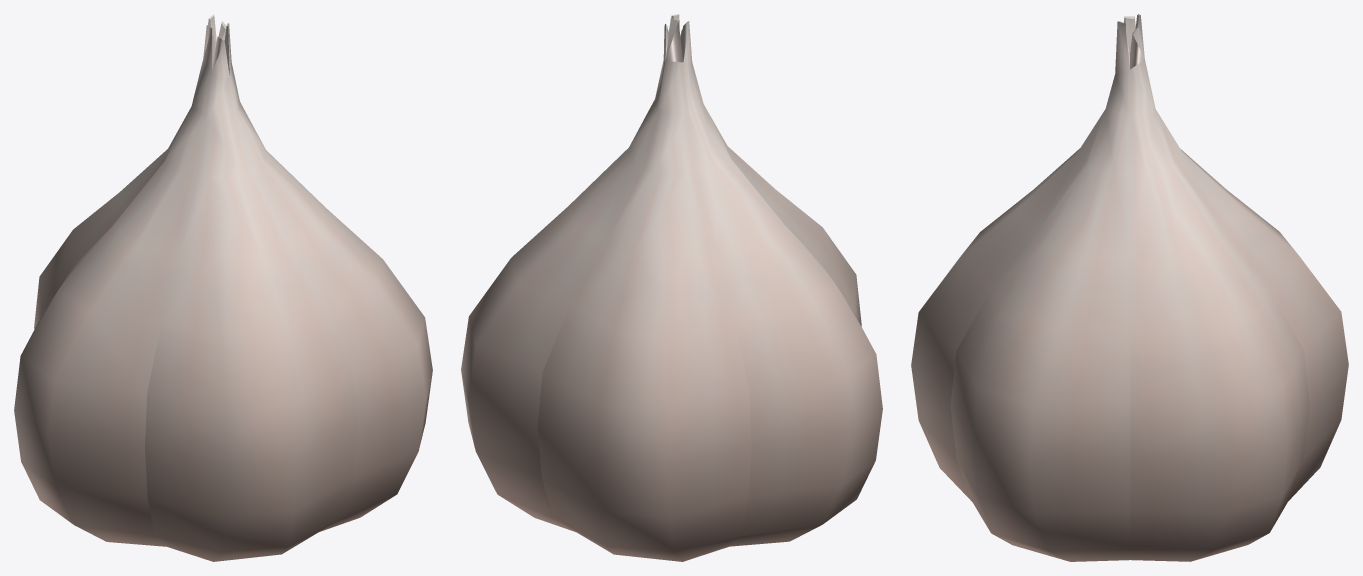
The model's file is Garlic.fbx.
The picture shows the model from 3 angles, left to right: view 1: azimuth 30°, elevation 25°; view 2: azimuth 150°, elevation 25°; view 3: azimuth 270°, elevation 25°; orthographic projection. The views are drawn at different scales.
Parts seen in each view (by area): view 1: GArlic; view 2: GArlic; view 3: GArlic.
Boxes of the visible parts, <box> form: GArlic: <box>14,14,432,561</box>; GArlic: <box>461,14,882,561</box>; GArlic: <box>911,14,1348,561</box>.
Bounding box in the file's own units: 2.47 × 3.39 × 2.6.
